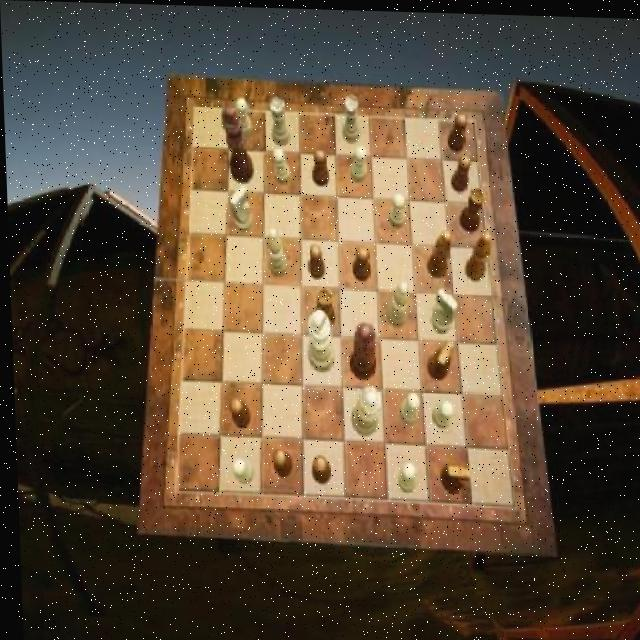bishop: (464, 228, 493, 279), (425, 227, 451, 276)
black-bishop: (221, 104, 254, 182)
black-king: (425, 337, 453, 378), (436, 460, 468, 492)
black-knight: (449, 152, 471, 190), (446, 110, 467, 149), (310, 147, 328, 185), (227, 396, 249, 427), (350, 245, 369, 280), (270, 447, 291, 477), (307, 242, 325, 277), (309, 455, 328, 483)
black-pawn: (346, 320, 376, 378)
black-queen: (458, 183, 486, 229), (313, 284, 334, 327)
black-rook: (385, 278, 409, 325), (265, 226, 285, 275)
white-bishop: (304, 307, 332, 371)
white-king: (428, 285, 457, 331), (230, 184, 252, 232)
white-knight: (396, 390, 418, 425), (348, 143, 367, 181), (235, 96, 252, 137), (272, 145, 290, 183), (393, 459, 414, 491), (428, 399, 451, 427), (387, 191, 405, 226), (228, 456, 252, 482)
white-pawn: (348, 383, 380, 435)
white-queen: (269, 97, 290, 145), (341, 94, 360, 142)
